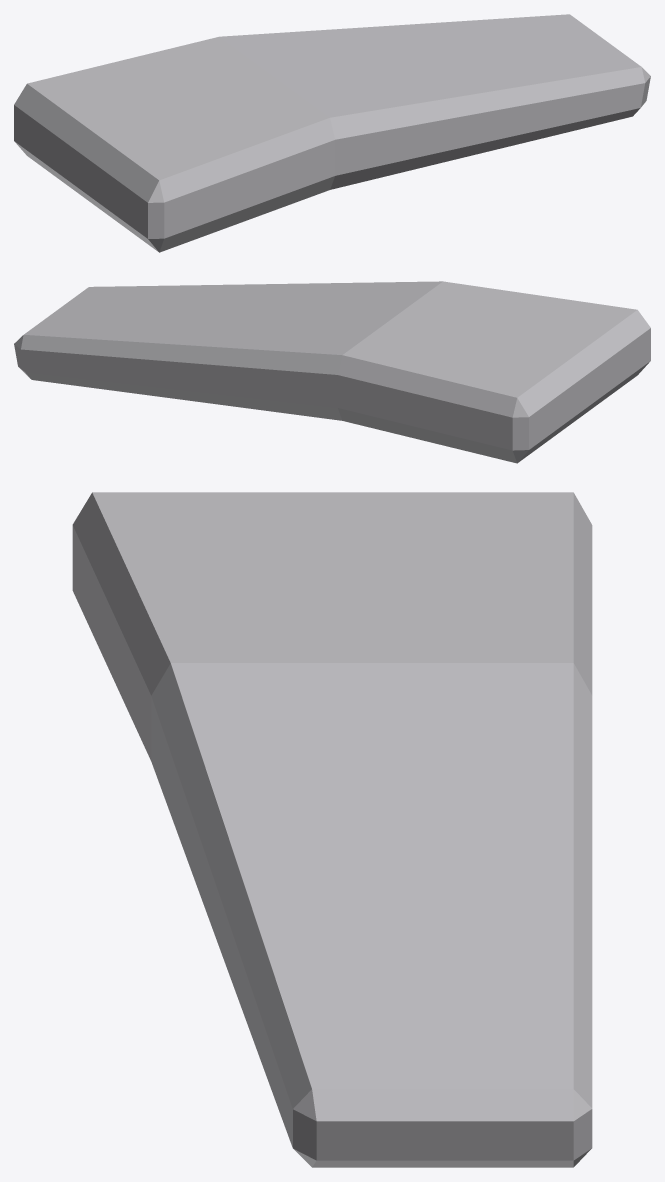
The model's file is Personal_Vehicle_03_Wings_Left.fbx.
3 renders of one model, top to bottom at view 1: azimuth 30°, elevation 25°; view 2: azimuth 150°, elevation 25°; view 3: azimuth 270°, elevation 25°, orthographic. The views are drawn at different scales.
Parts seen in each view (by area): view 1: Personal_Vehicle_03_Wings_Left; view 2: Personal_Vehicle_03_Wings_Left; view 3: Personal_Vehicle_03_Wings_Left.
Part boxes in pixels (x1=…): Personal_Vehicle_03_Wings_Left: x1=14, y1=14, x2=650, y2=252; Personal_Vehicle_03_Wings_Left: x1=14, y1=281, x2=650, y2=463; Personal_Vehicle_03_Wings_Left: x1=72, y1=492, x2=592, y2=1167.
Bounding box in the file's own units: 76.65 × 14.31 × 33.49.
Materials: 1 (1 with a texture image).
